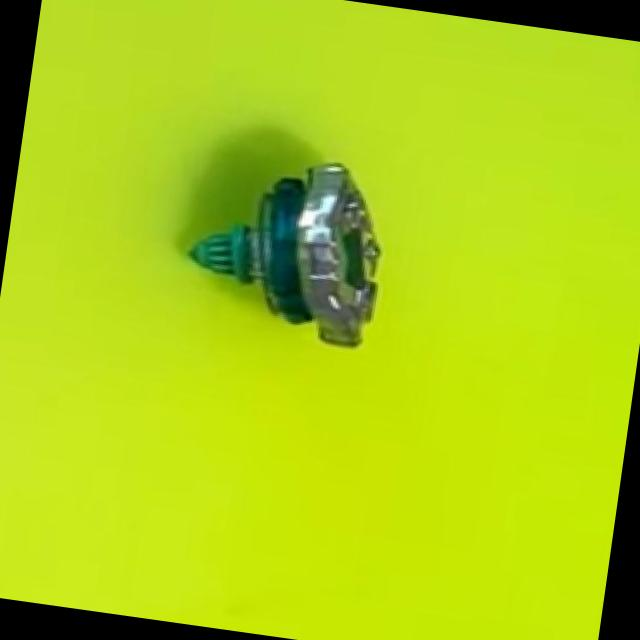Beyblade: (173, 140, 399, 352)
